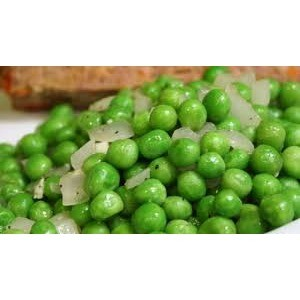green pea_brain food: (63, 104, 267, 208)
